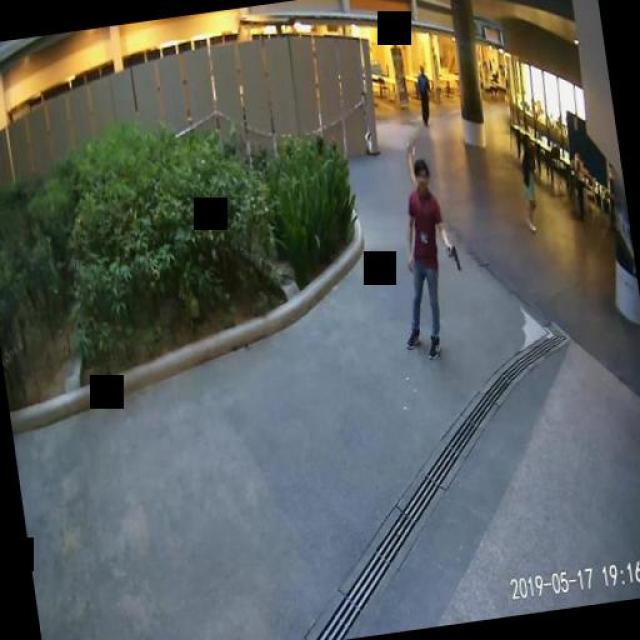gun: (445, 244, 460, 272)
